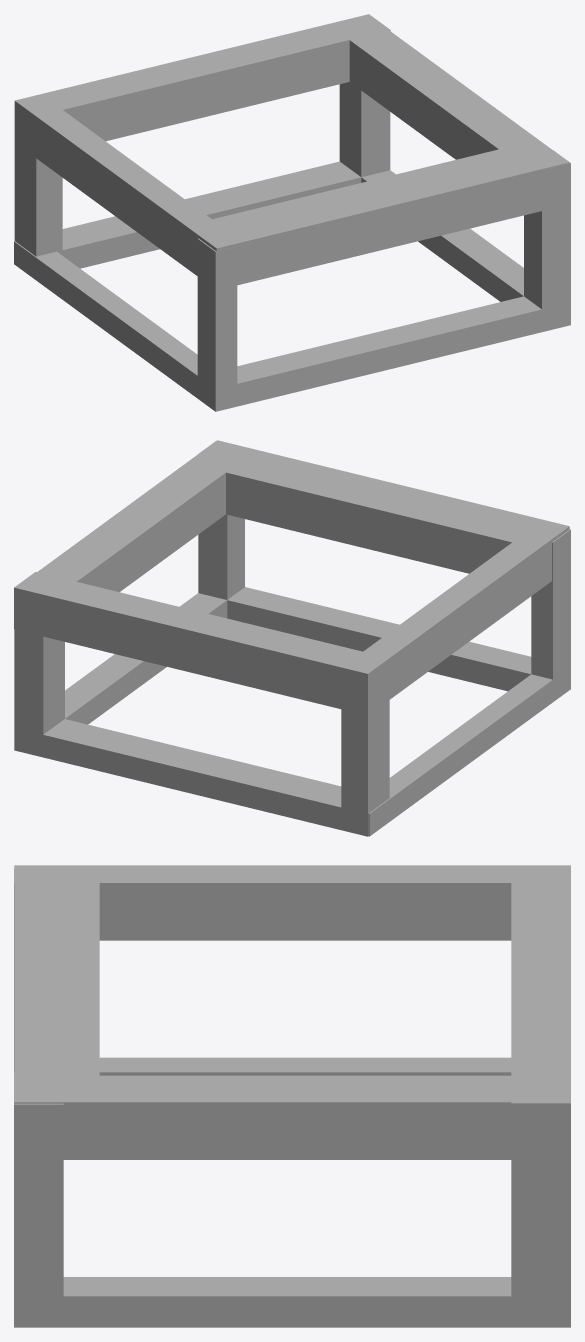
Rendered from JumpDriveCharger_Large_Constr1.fbx.
3 views of the same model, one above another, from view 1: azimuth 30°, elevation 25°; view 2: azimuth 150°, elevation 25°; view 3: azimuth 270°, elevation 25° (orthographic). The views are drawn at different scales.
Visible parts, largest first — view 1: Cube.003; view 2: Cube.003; view 3: Cube.003.
Boxes of the visible parts, box(x1,y1,x2,y2) form: Cube.003: box(14, 14, 570, 411); Cube.003: box(14, 440, 570, 836); Cube.003: box(14, 865, 570, 1327).
Bounding box in the file's own units: 2.49 × 1.09 × 2.46.
